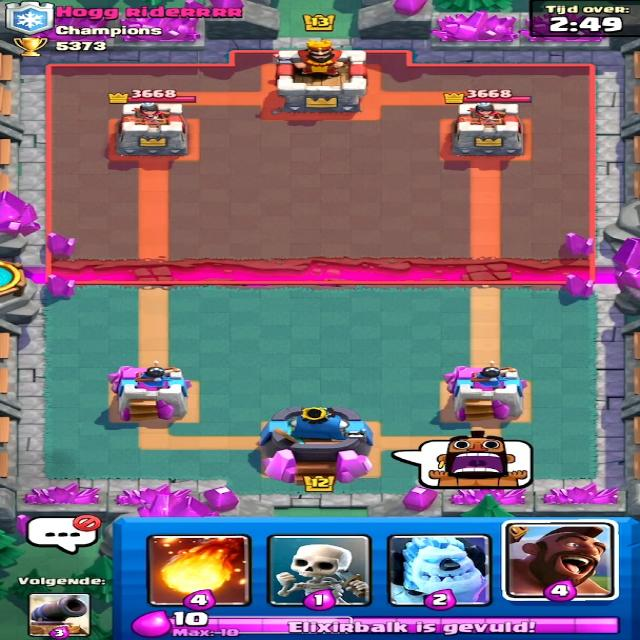Fireball_Card: (147, 536, 245, 603)
Hog_Rider_Card: (503, 518, 617, 600)
Ice_Golem_Card: (391, 536, 489, 604)
Skeleton_Card: (274, 534, 375, 604)
